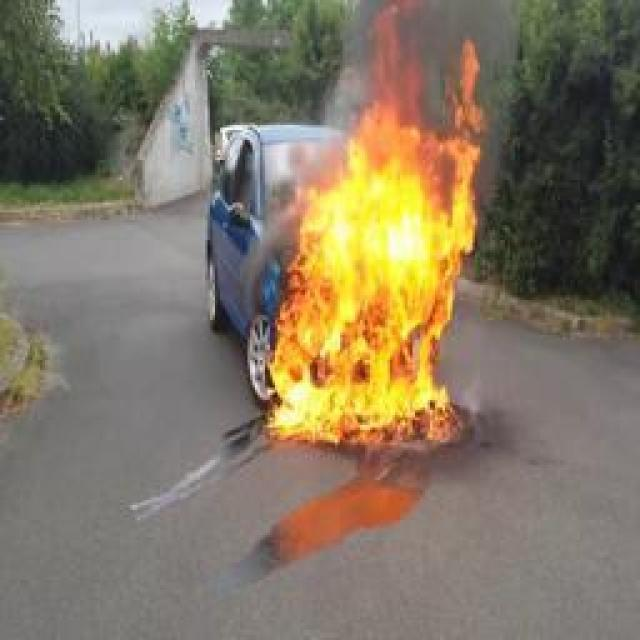Fire: (271, 0, 488, 442)
